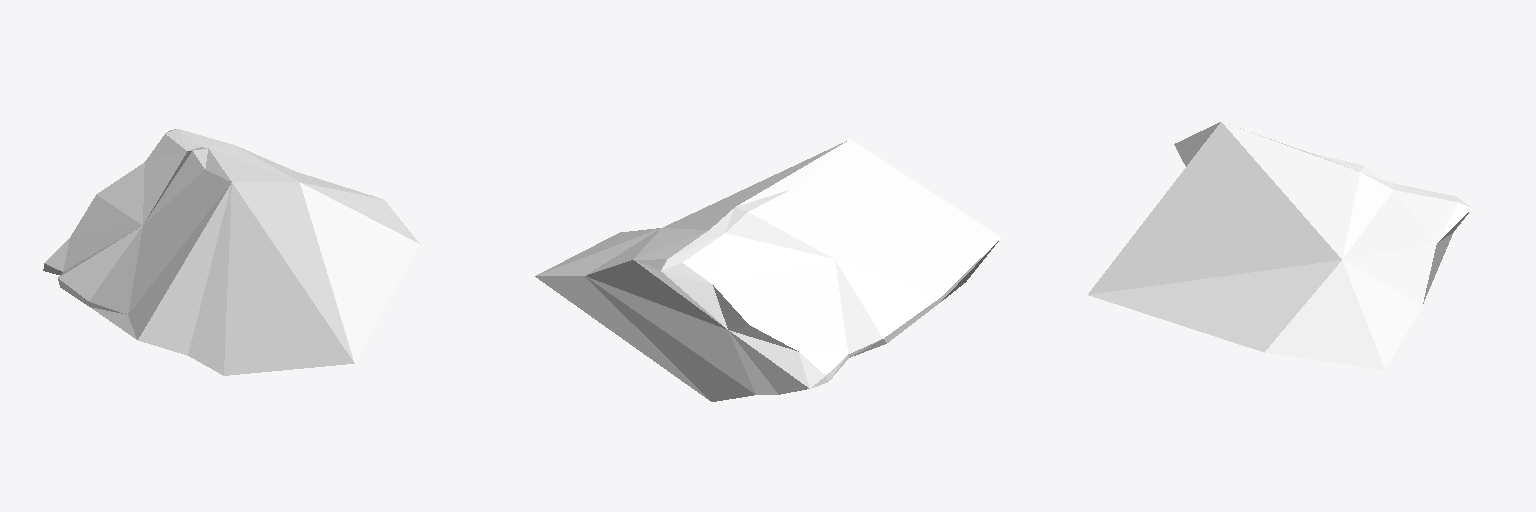
The model's file is piece3.obj.
The picture shows the model from 3 angles: view 1: azimuth 30°, elevation 25°; view 2: azimuth 150°, elevation 25°; view 3: azimuth 270°, elevation 25°; orthographic projection.
Parts seen in each view (by area): view 1: mesh0059; view 2: mesh0059; view 3: mesh0059.
Part boxes in pixels (x1,y1,x2,y2): mesh0059: (43, 129, 419, 375); mesh0059: (535, 139, 1000, 401); mesh0059: (1088, 122, 1472, 369).
Size of the model in its own units: 0.8619 by 0.4938 by 0.7953.